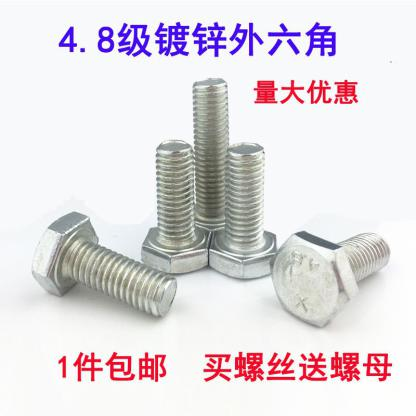FOD: (30, 210, 178, 320), (269, 229, 392, 329), (179, 78, 240, 264), (137, 138, 215, 276), (207, 141, 278, 284)
